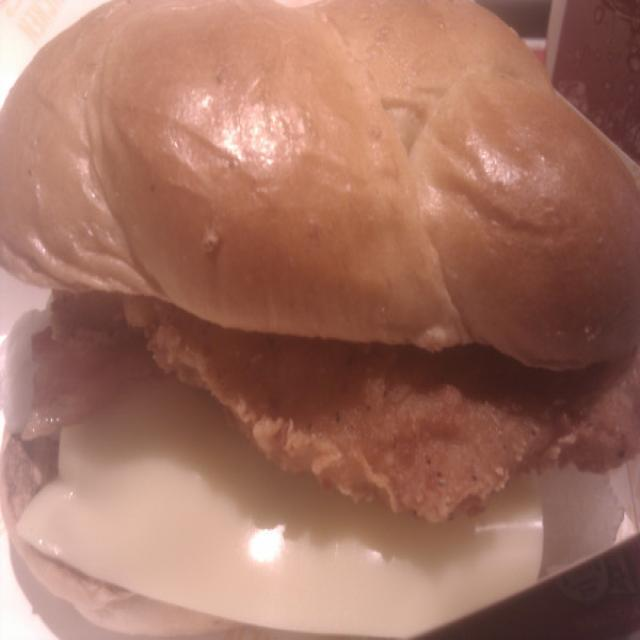Hamburger: (0, 0, 639, 546)
